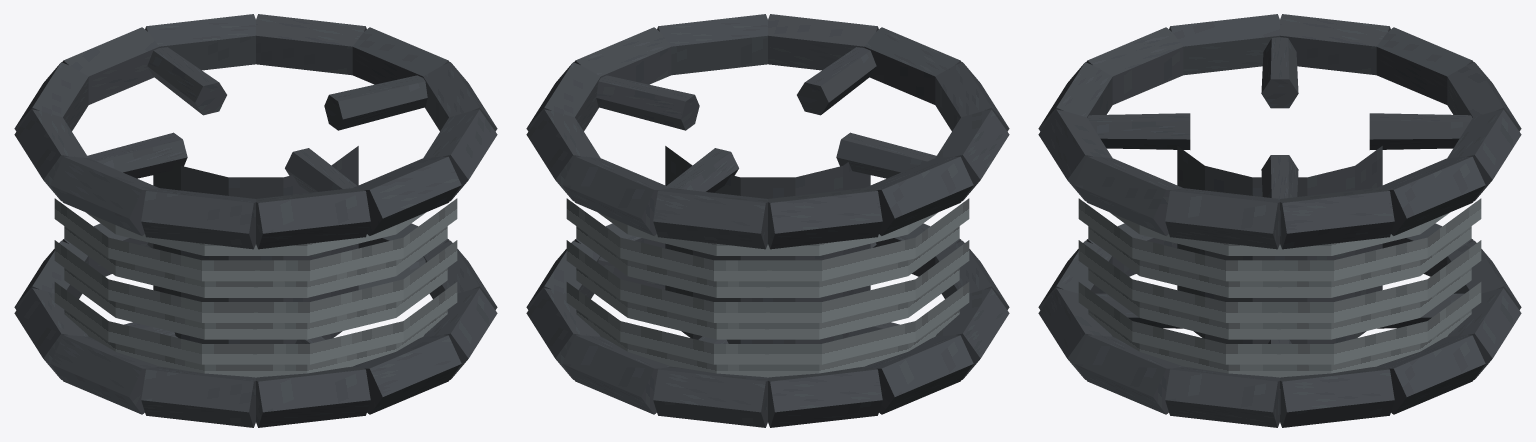
Rendered from welding_wire_steel.glb.
The picture shows the model from 3 angles, left to right: view 1: azimuth 30°, elevation 25°; view 2: azimuth 150°, elevation 25°; view 3: azimuth 270°, elevation 25°; orthographic projection.
Visible parts, largest first — view 1: block_spoke (×5), block_flange3 (×2), block_flange4 (×2), block_flange2 (×2), block_flange5 (×2), block_winding 5, block_winding 1, block_winding 3, block_reel hub, block_winding 4, block_winding 2, block_flange1 (×2) (+9 smaller); view 2: block_spoke (×5), block_flange7 (×2), block_flange8 (×2), block_flange6 (×2), block_flange9 (×2), block_winding 5, block_winding 1, block_winding 3, block_reel hub, block_winding 4, block_winding 2, block_flange5 (×2) (+9 smaller); view 3: block_spoke (×6), block_flange0 (×2), block_flange11 (×2), block_flange1 (×2), block_flange10 (×2), block_winding 5, block_winding 1, block_winding 3, block_reel hub, block_winding 4, block_winding 2, block_flange2 (×2) (+9 smaller).
Boxes of the visible parts, left/top/right/bottom form: block_spoke (×5): left=87, top=47, right=427, bottom=289; block_flange3 (×2): left=256, top=188, right=370, bottom=427; block_flange4 (×2): left=141, top=188, right=255, bottom=427; block_flange2 (×2): left=353, top=156, right=461, bottom=414; block_flange5 (×2): left=50, top=156, right=158, bottom=414; block_winding 5: left=54, top=198, right=457, bottom=281; block_winding 1: left=54, top=282, right=457, bottom=364; block_winding 3: left=54, top=240, right=457, bottom=322; block_reel hub: left=153, top=146, right=358, bottom=343; block_winding 4: left=64, top=226, right=447, bottom=297; block_winding 2: left=64, top=268, right=447, bottom=339; block_flange1 (×2): left=423, top=109, right=497, bottom=379; block_spoke (×5): left=596, top=47, right=936, bottom=289; block_flange7 (×2): left=768, top=188, right=882, bottom=427; block_flange8 (×2): left=653, top=188, right=767, bottom=427; block_flange6 (×2): left=865, top=156, right=973, bottom=414; block_flange9 (×2): left=562, top=156, right=670, bottom=414; block_winding 5: left=566, top=198, right=969, bottom=281; block_winding 1: left=566, top=282, right=969, bottom=364; block_winding 3: left=566, top=240, right=969, bottom=322; block_reel hub: left=665, top=146, right=870, bottom=343; block_winding 4: left=576, top=226, right=959, bottom=297; block_winding 2: left=576, top=268, right=959, bottom=339; block_flange5 (×2): left=935, top=109, right=1009, bottom=379; block_spoke (×6): left=1087, top=37, right=1472, bottom=328; block_flange0 (×2): left=1165, top=188, right=1279, bottom=427; block_flange11 (×2): left=1280, top=188, right=1394, bottom=427; block_flange1 (×2): left=1074, top=156, right=1182, bottom=414; block_flange10 (×2): left=1377, top=156, right=1485, bottom=414; block_winding 5: left=1078, top=198, right=1481, bottom=281; block_winding 1: left=1078, top=282, right=1481, bottom=364; block_winding 3: left=1078, top=240, right=1481, bottom=322; block_reel hub: left=1177, top=146, right=1382, bottom=343; block_winding 4: left=1088, top=226, right=1471, bottom=297; block_winding 2: left=1088, top=268, right=1471, bottom=339; block_flange2 (×2): left=1038, top=109, right=1112, bottom=379.
Bounding box in the file's own units: 0.102 × 0.0524 × 0.102.
1 material, 1 textured.
